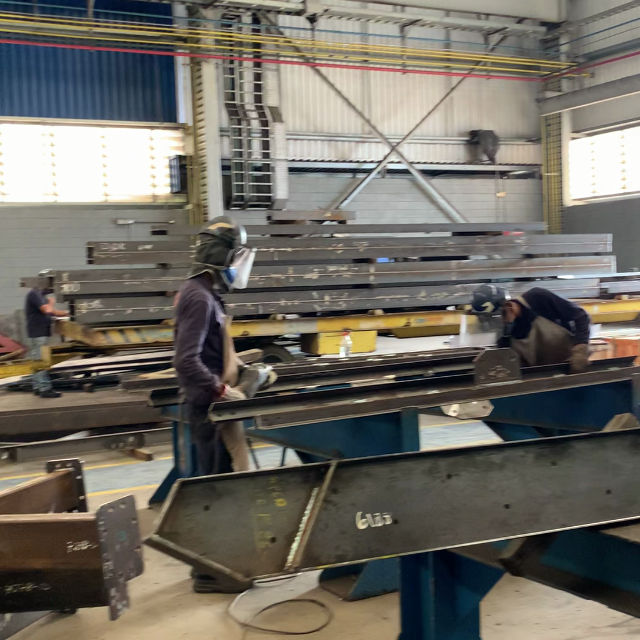face-shield: (458, 312, 499, 351), (228, 249, 254, 289)
glove: (569, 344, 592, 372), (220, 385, 248, 403)
helmet: (200, 222, 249, 241), (472, 284, 510, 296)
person: (175, 219, 276, 464), (470, 283, 590, 375)
safety-shoe: (191, 571, 254, 593)
